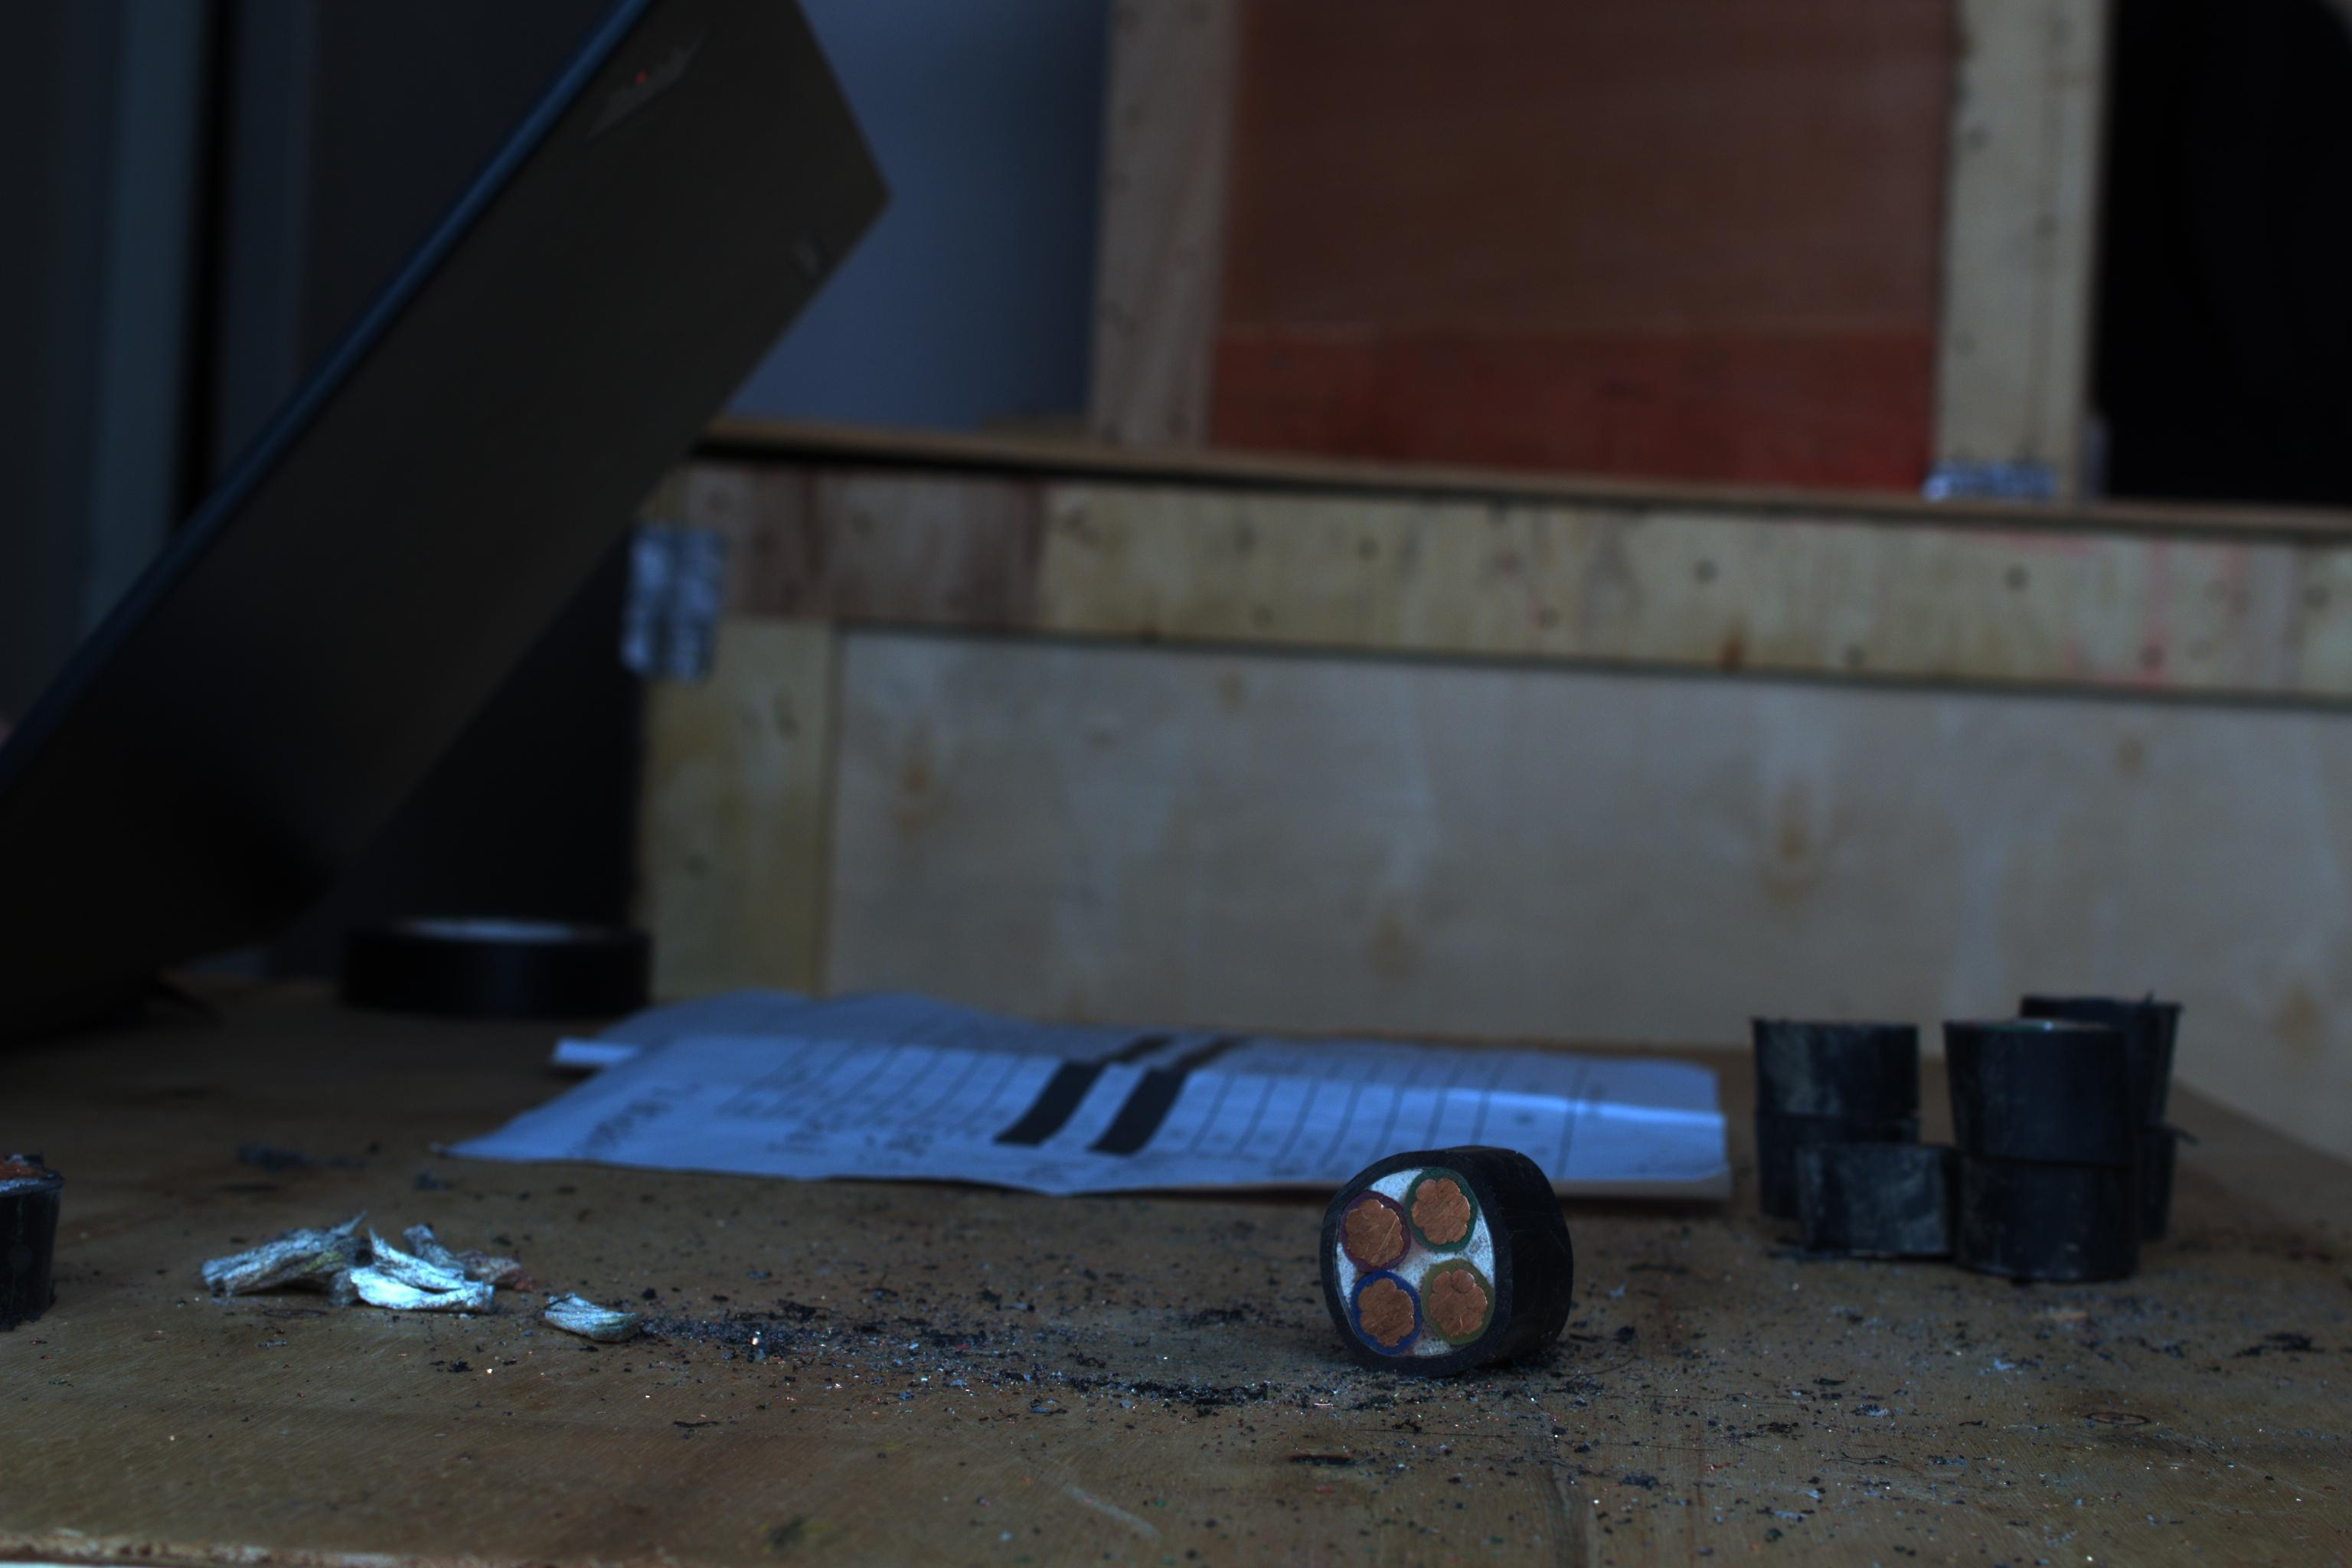YJV_0.6_1kV_4x35: (1319, 1146, 1575, 1405)
